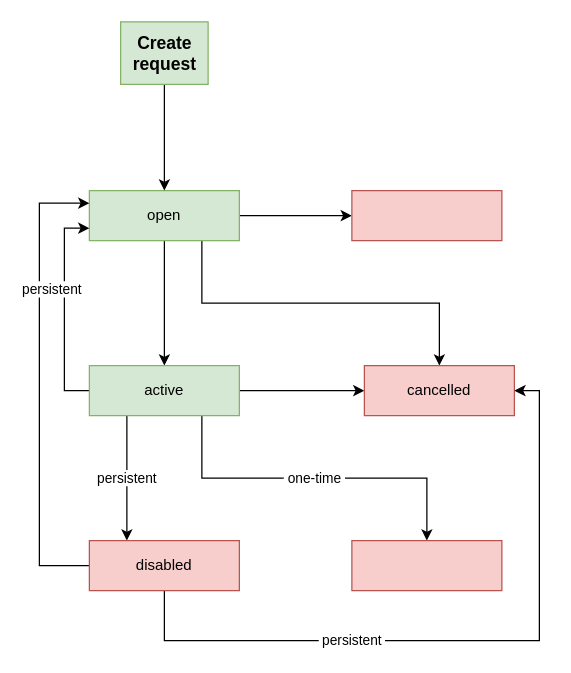
Image size: 571x673. Some labels were removed from this diagram. The box of each missing label's shape, as (x1, y1, x2, y2) in pixels:
c losed: (351, 539, 502, 591)
failed: (351, 189, 502, 241)
